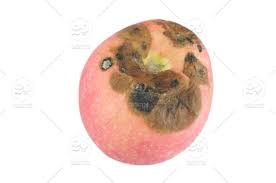damaged_apple: (76, 17, 215, 165)
